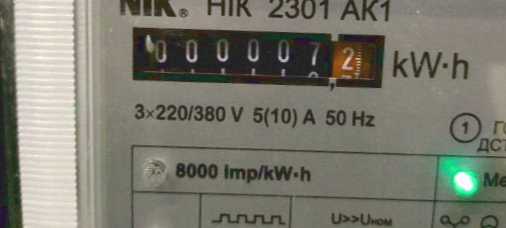0: (213, 35, 232, 63), (183, 35, 201, 64), (275, 35, 292, 64), (152, 36, 170, 63), (245, 34, 261, 62)
2: (339, 42, 357, 72)
7: (305, 38, 322, 67)
screen: (121, 12, 398, 98)
